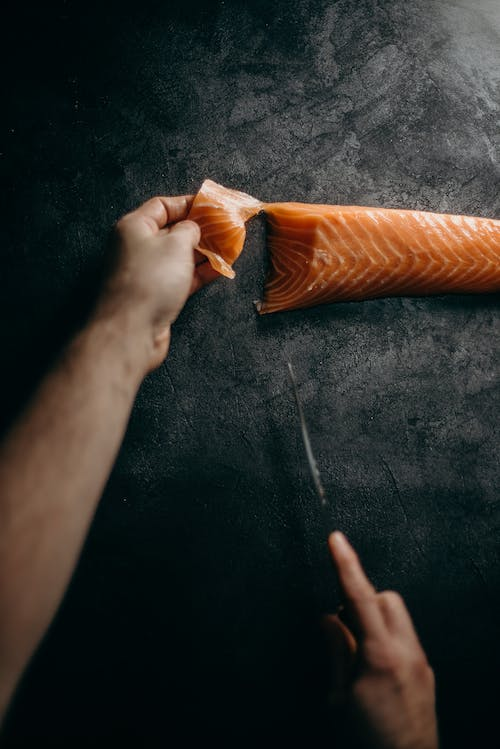knife: (284, 355, 332, 536)
